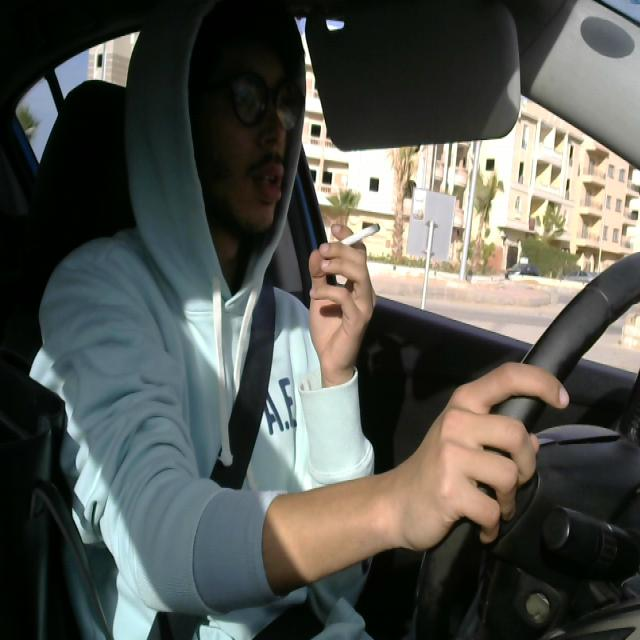smoking: (315, 215, 382, 269)
